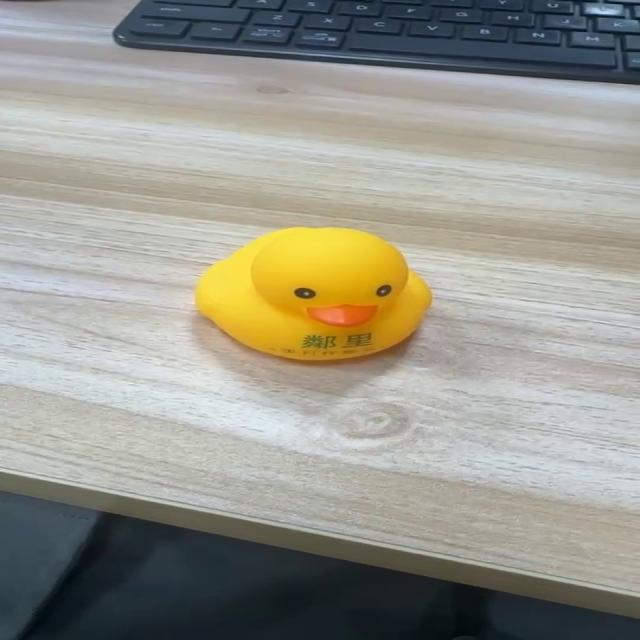yellow_duck: (192, 224, 434, 361)
